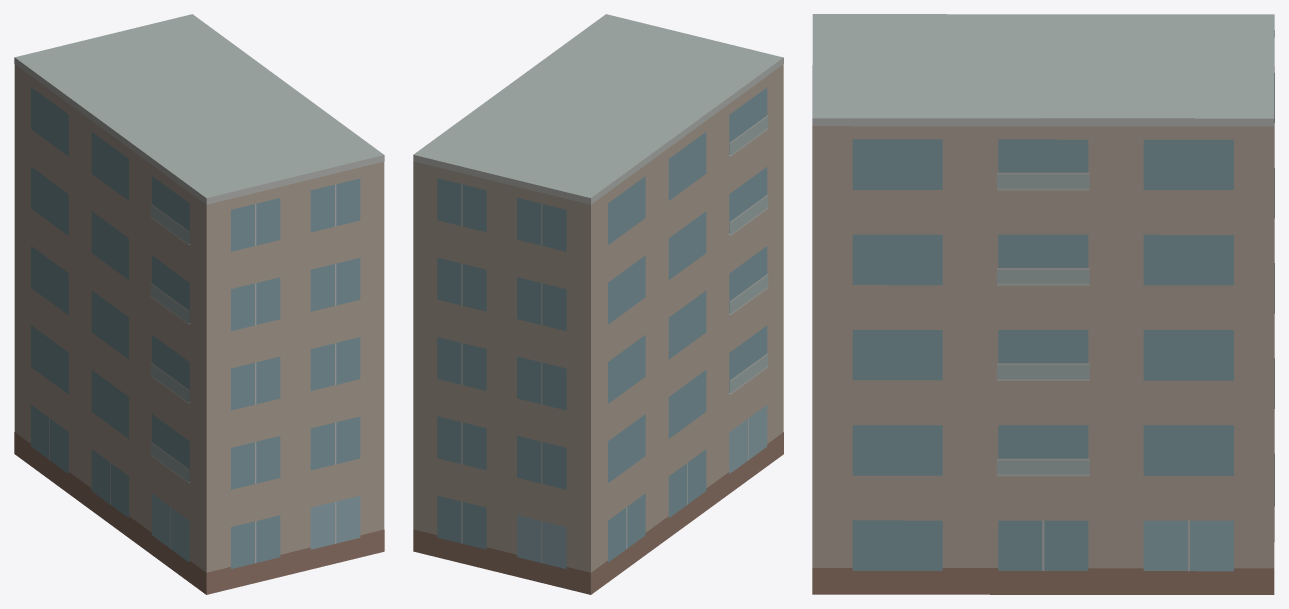
The model's file is survey-upis-32742586.glb.
3 views of the same model, side by side, from view 1: azimuth 30°, elevation 25°; view 2: azimuth 150°, elevation 25°; view 3: azimuth 270°, elevation 25° (orthographic). The views are drawn at different scales.
Parts seen in each view (by area): view 1: survey-upis-32742586.tmp; view 2: survey-upis-32742586.tmp; view 3: survey-upis-32742586.tmp.
Part boxes in pixels (x1,y1,x2,y2): survey-upis-32742586.tmp: (14, 14, 384, 594); survey-upis-32742586.tmp: (413, 14, 783, 594); survey-upis-32742586.tmp: (812, 14, 1274, 594).
Bounding box in the file's own units: 6.98 × 14.7 × 12.95.
